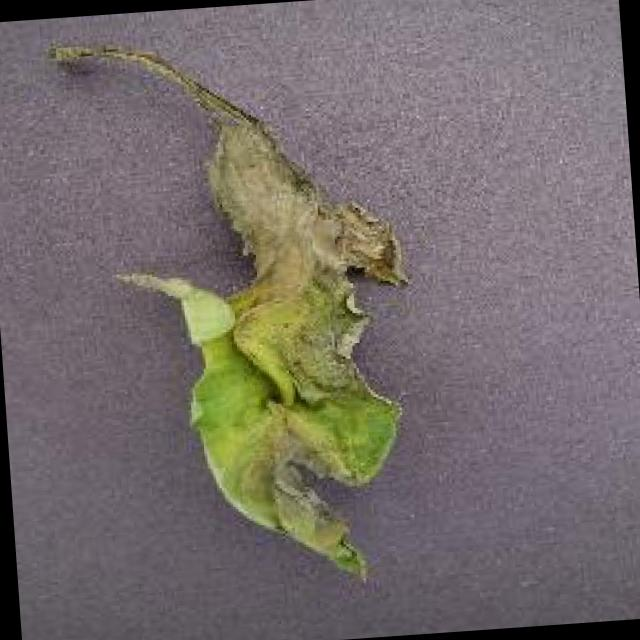Tomato_Late_Blight: (192, 98, 414, 420), (235, 425, 388, 597)
